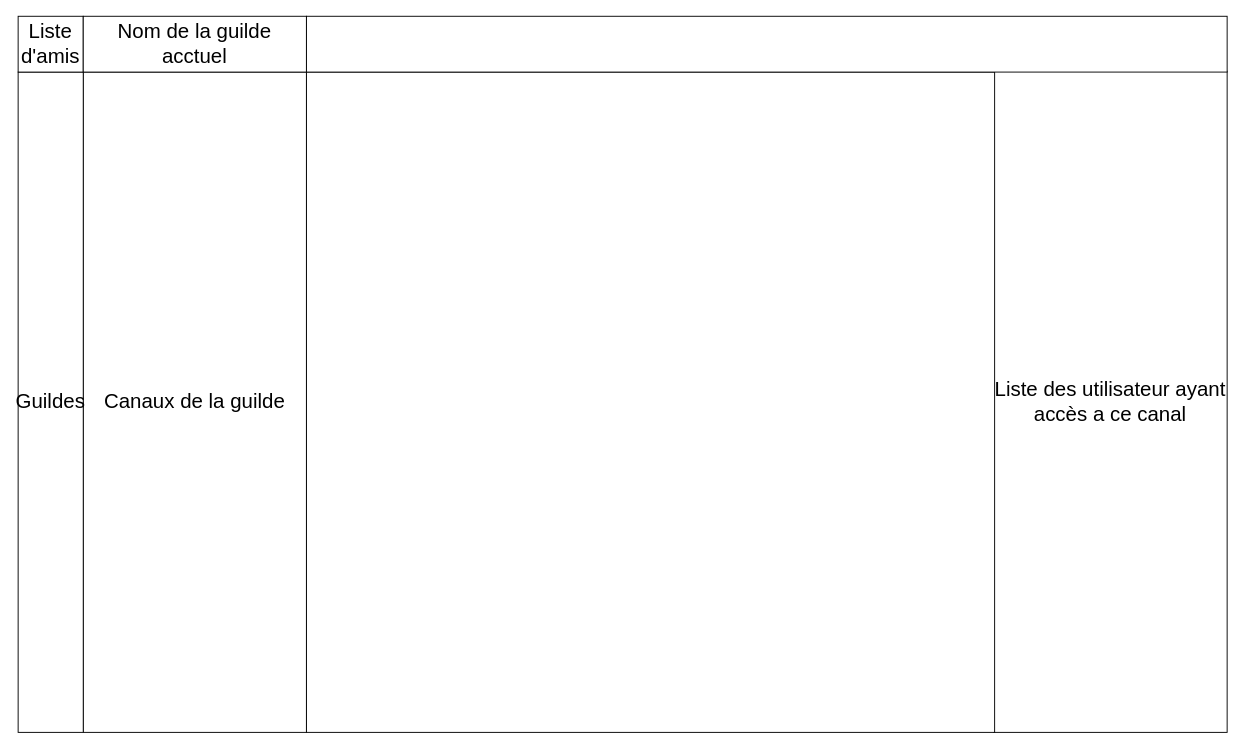
Some shapes in this 1243 by 749 pixel diagram are drawn without their labels. The box of each missing label's shape, as (x1, y1, x2, y2) in pixels:
Chat: (306, 71, 995, 732)
Nom du canal acctuel: (306, 15, 1227, 72)
